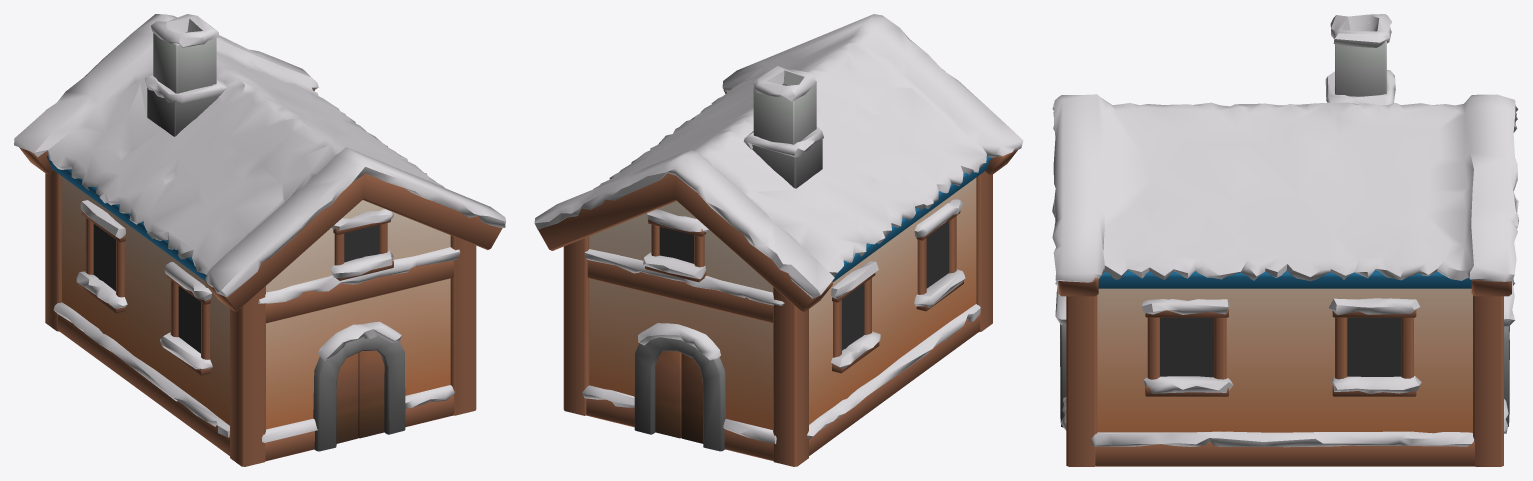
The model's file is HouseSnowy_4.fbx.
3 views of the same model, side by side, from view 1: azimuth 30°, elevation 25°; view 2: azimuth 150°, elevation 25°; view 3: azimuth 270°, elevation 25° (orthographic). The views are drawn at different scales.
Parts seen in each view (by area): view 1: HouseSnowy_4; view 2: HouseSnowy_4; view 3: HouseSnowy_4.
Boxes of the visible parts, left/top/right/bottom form: HouseSnowy_4: left=14, top=14, right=505, bottom=466; HouseSnowy_4: left=534, top=14, right=1023, bottom=466; HouseSnowy_4: left=1052, top=14, right=1518, bottom=466.
Bounding box in the file's own units: 348 × 375 × 441.
